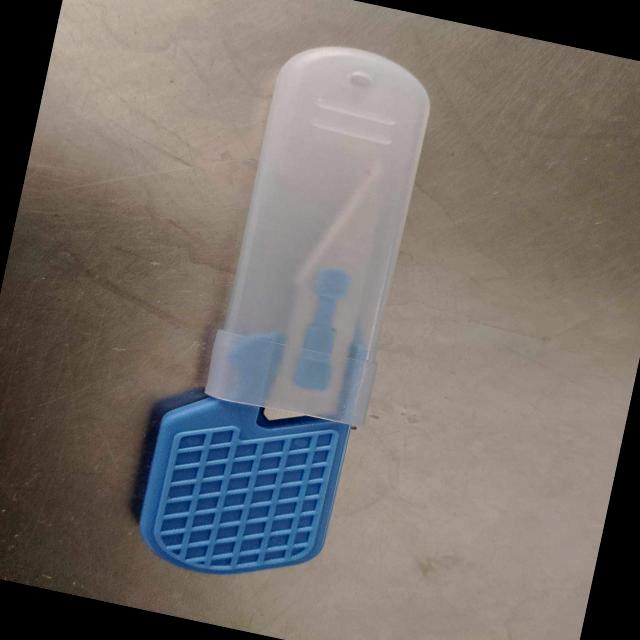Sharps: (136, 43, 431, 574), (293, 266, 351, 391)
